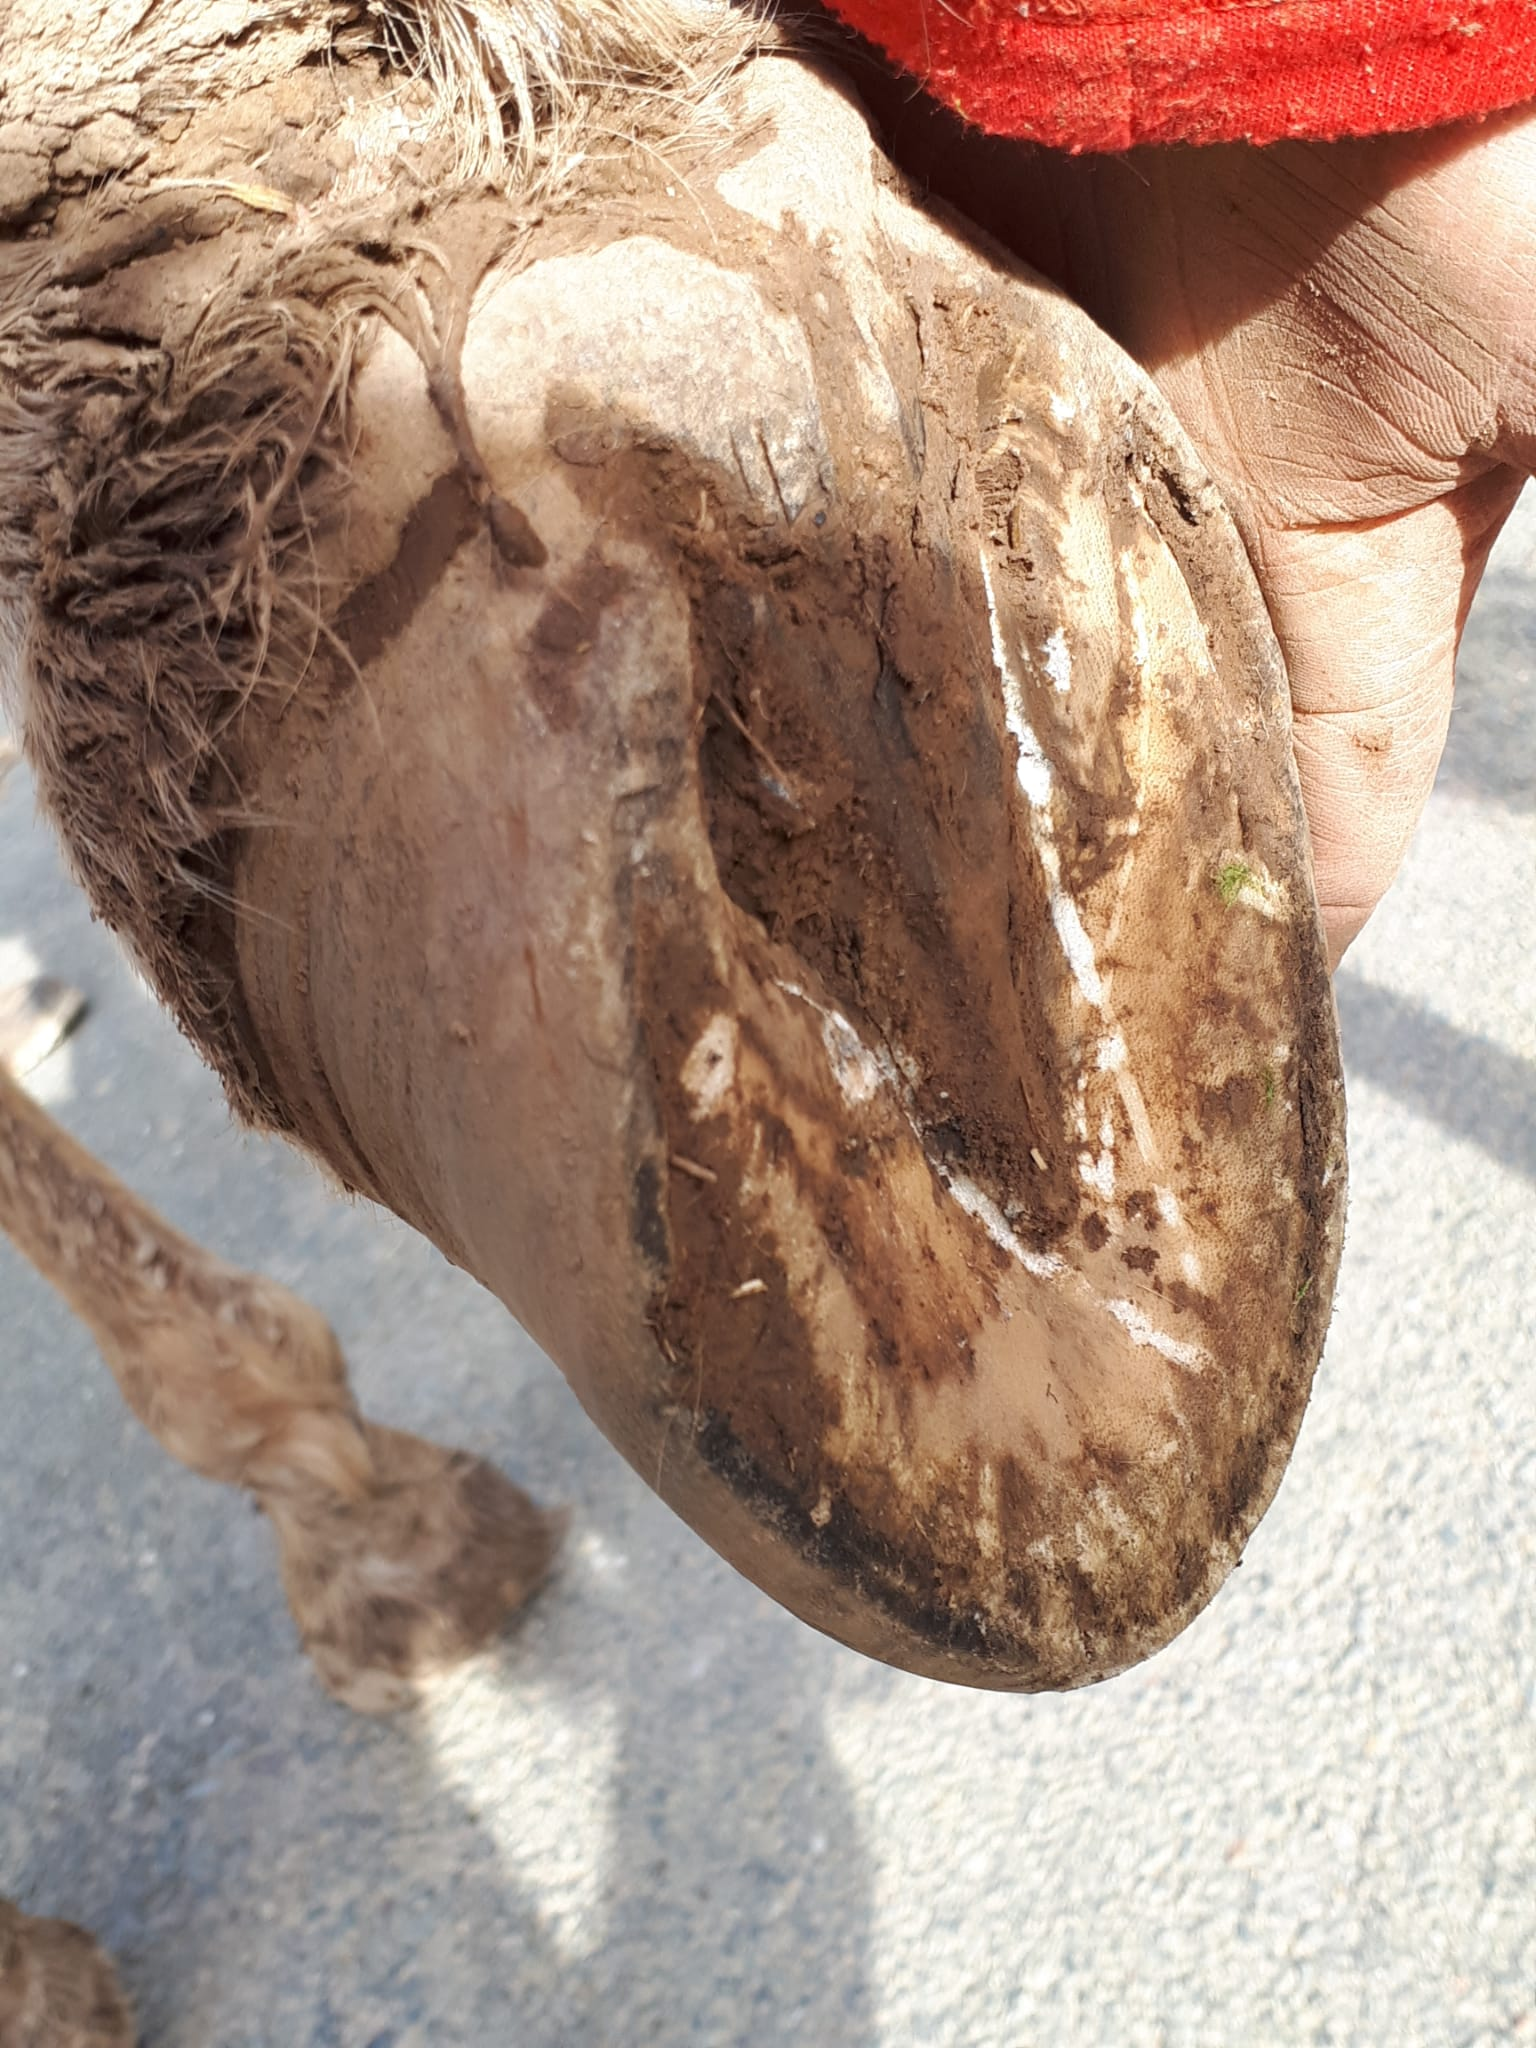horsesole: (615, 287, 1350, 1688)
